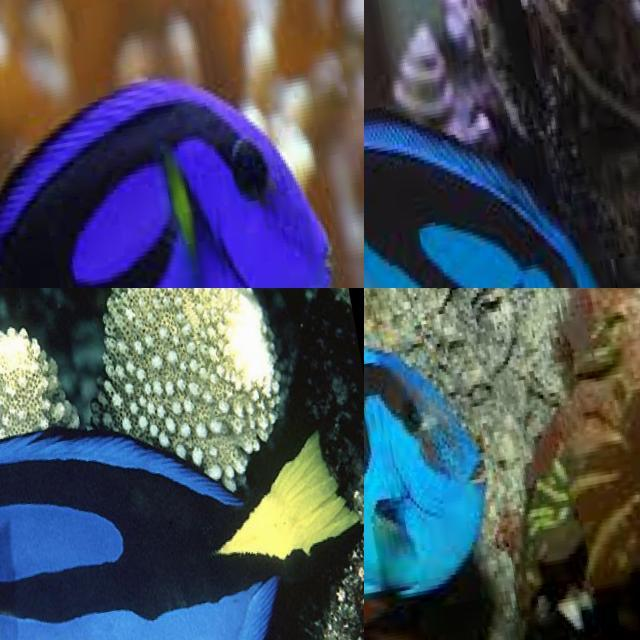BlueTang: (0, 414, 364, 640), (0, 76, 364, 288), (364, 122, 600, 288), (364, 344, 484, 605)
